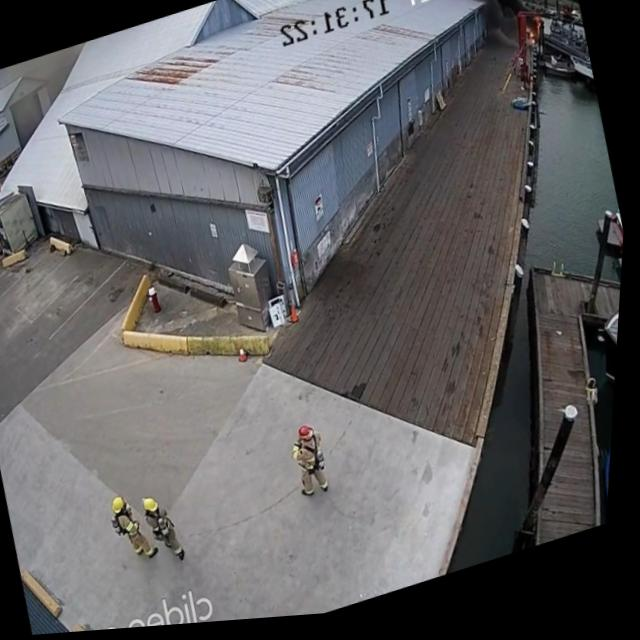fire: (524, 22, 547, 53)
